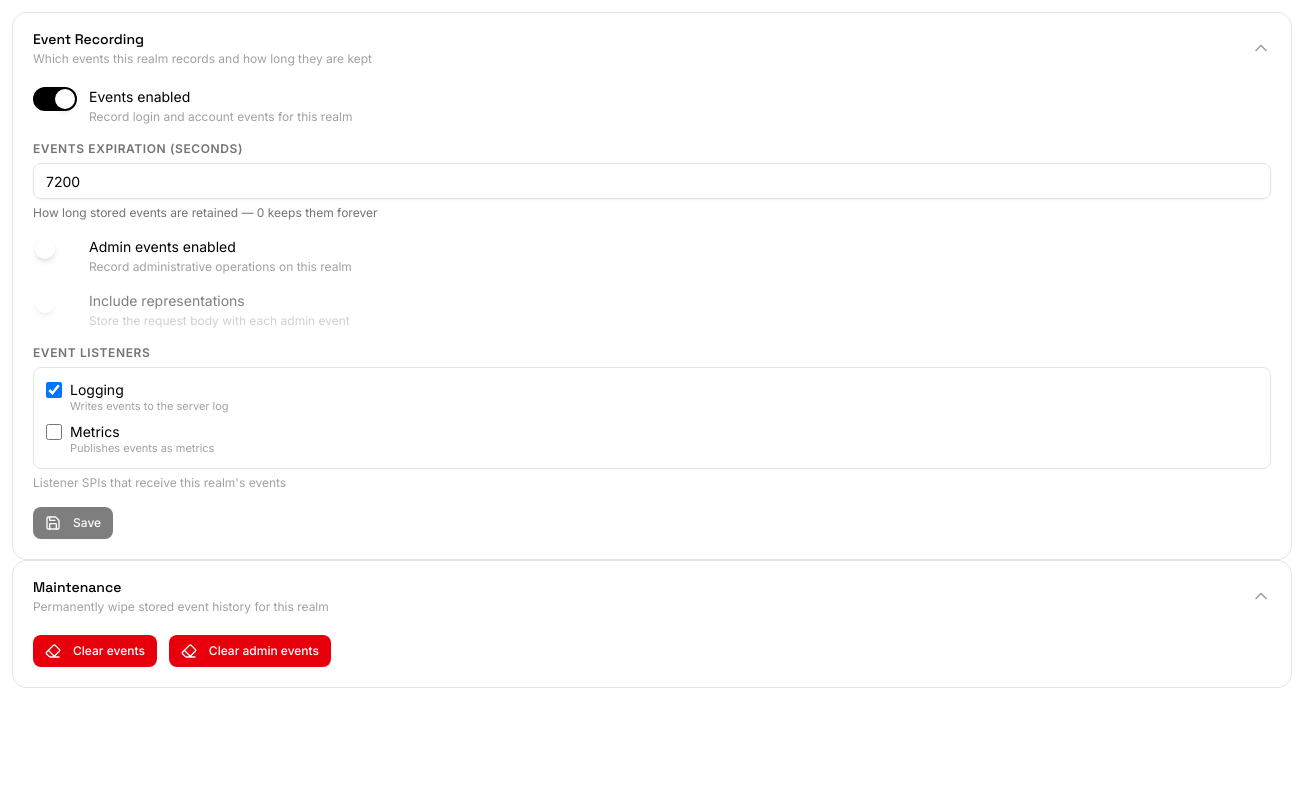
Test case: EventsConfigSection › keeps Save disabled until something changes
The width and height of the screenshot is (1304, 812).
Expected: the button "Save" is disabled, [33,506,113,538]
Click the switch labelled "Events enabled".
click(140, 96)  # box [89,88,190,105]
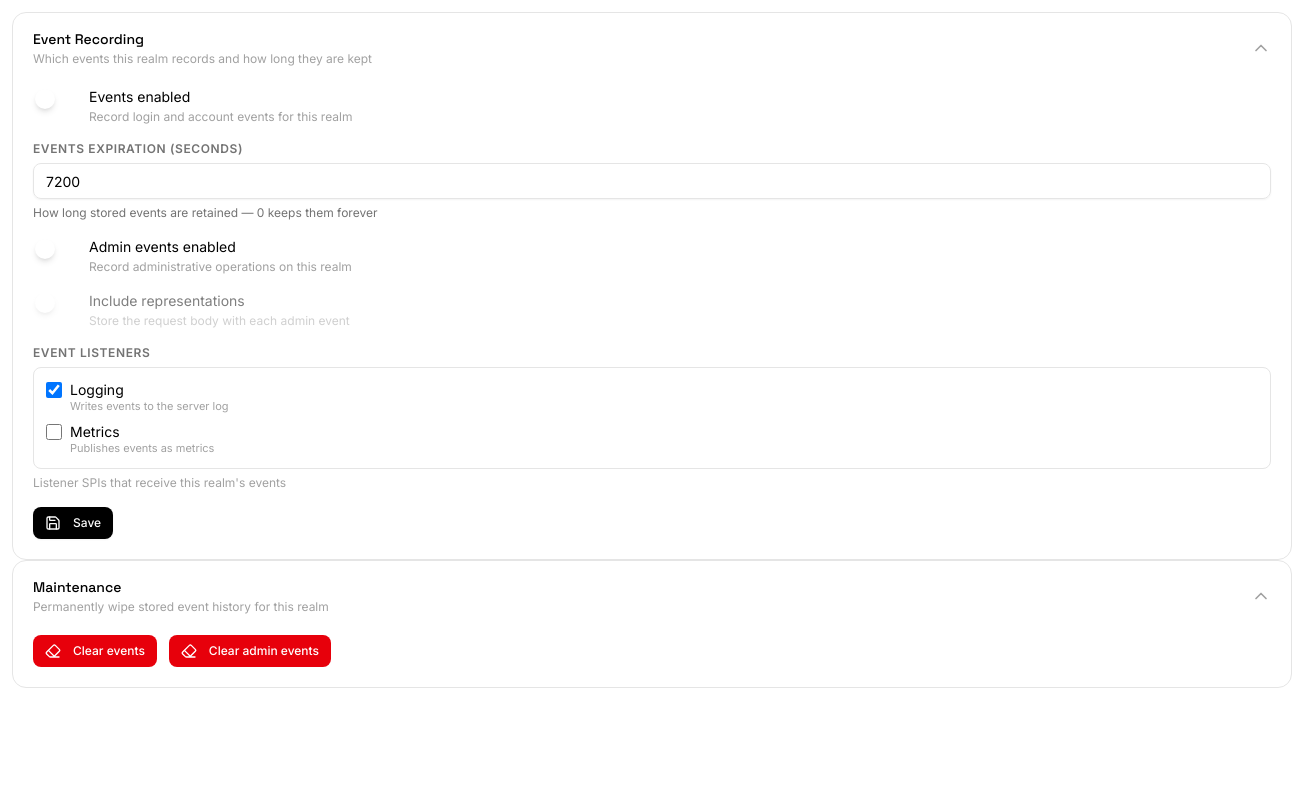
Expected: the button "Save" is enabled, [33,506,113,538]
